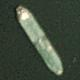ship: (0, 0, 32, 37)
